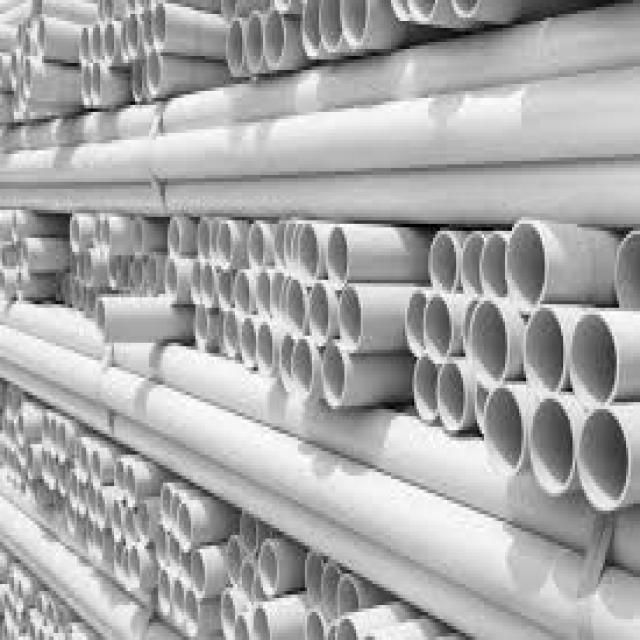pipe: (578, 409, 627, 510), (570, 313, 617, 408), (531, 400, 572, 491), (523, 309, 562, 392), (506, 223, 545, 305), (471, 300, 507, 386), (485, 389, 521, 471), (615, 234, 640, 309), (321, 345, 349, 406), (439, 363, 465, 426), (481, 238, 507, 298), (427, 292, 451, 357), (459, 234, 485, 293), (414, 359, 440, 418), (339, 286, 362, 352), (326, 227, 350, 287), (433, 233, 457, 289), (297, 227, 319, 287), (309, 282, 330, 342), (292, 340, 314, 396), (407, 291, 426, 354), (286, 277, 306, 335), (246, 221, 266, 277), (260, 540, 280, 593), (343, 0, 370, 39), (304, 552, 323, 605), (321, 0, 342, 44), (265, 10, 284, 58), (240, 317, 257, 370), (176, 502, 194, 552), (246, 14, 264, 64), (321, 564, 340, 610), (337, 576, 359, 614), (226, 535, 242, 587), (258, 320, 274, 372), (190, 549, 207, 596), (217, 269, 238, 307), (221, 588, 236, 640), (251, 603, 272, 640), (280, 335, 295, 386), (222, 309, 238, 356), (183, 589, 200, 632), (233, 271, 250, 314), (229, 22, 245, 66), (306, 0, 320, 49), (164, 221, 183, 257), (200, 264, 215, 309), (257, 273, 272, 317), (219, 222, 232, 272), (241, 559, 256, 602), (242, 515, 258, 554), (165, 260, 179, 303), (56, 422, 70, 465), (142, 253, 159, 288), (306, 612, 327, 640), (194, 308, 212, 340), (138, 501, 150, 546), (93, 301, 107, 339), (128, 548, 142, 586), (114, 458, 126, 502), (125, 465, 137, 507), (91, 451, 105, 487), (155, 4, 167, 46), (174, 577, 186, 618), (198, 220, 210, 261), (78, 65, 92, 100), (132, 218, 145, 254), (68, 217, 82, 250), (111, 506, 125, 539), (161, 487, 173, 525), (90, 61, 102, 99), (100, 219, 112, 255), (124, 513, 137, 545), (35, 22, 47, 56), (127, 15, 138, 52), (92, 23, 102, 62), (105, 27, 117, 59), (150, 53, 160, 90), (171, 493, 180, 533), (43, 415, 53, 451), (236, 614, 250, 639), (134, 60, 143, 97), (95, 492, 106, 522), (24, 60, 33, 95), (145, 14, 154, 46), (108, 254, 118, 282), (81, 28, 90, 54), (19, 241, 29, 263)
